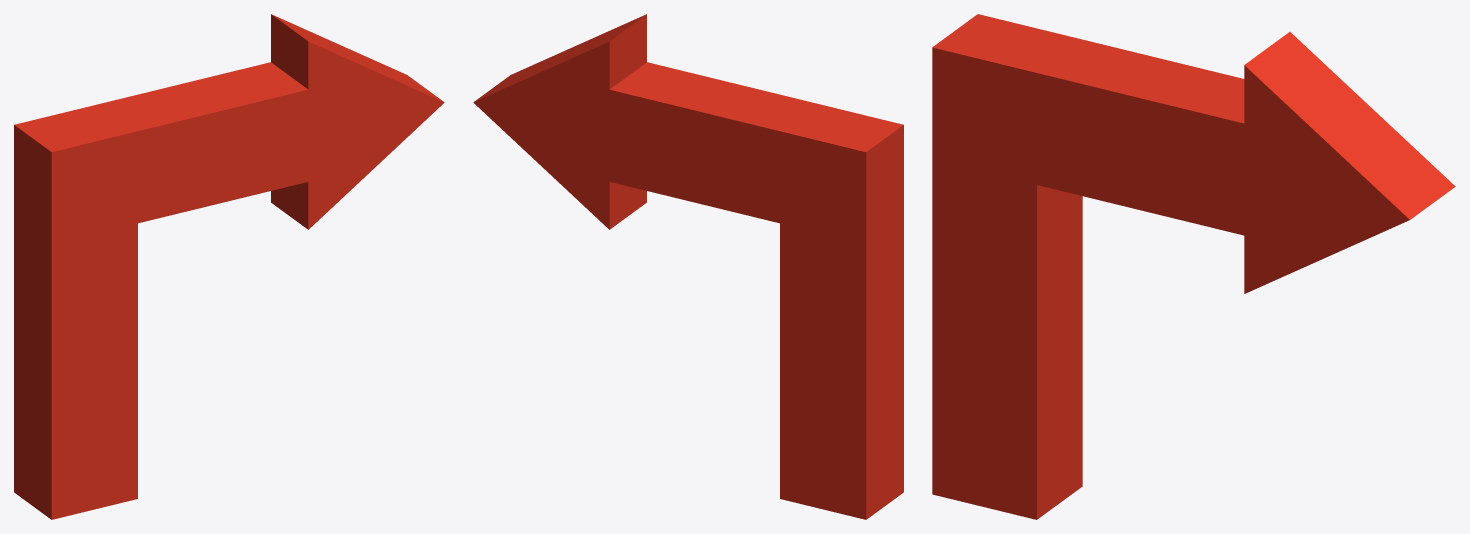
File: Icon_Arrow_05.fbx
3 renders of one model, left to right at view 1: azimuth 30°, elevation 25°; view 2: azimuth 150°, elevation 25°; view 3: azimuth 330°, elevation 25°, orthographic. The views are drawn at different scales.
Parts seen in each view (by area): view 1: Icon_Arrow_05; view 2: Icon_Arrow_05; view 3: Icon_Arrow_05.
Boxes of the visible parts, box(x1,y1,x2,y2) form: Icon_Arrow_05: box(14, 14, 444, 519); Icon_Arrow_05: box(473, 14, 903, 519); Icon_Arrow_05: box(932, 14, 1455, 519).
Bounding box in the file's own units: 72.85 × 73.64 × 12.06.
